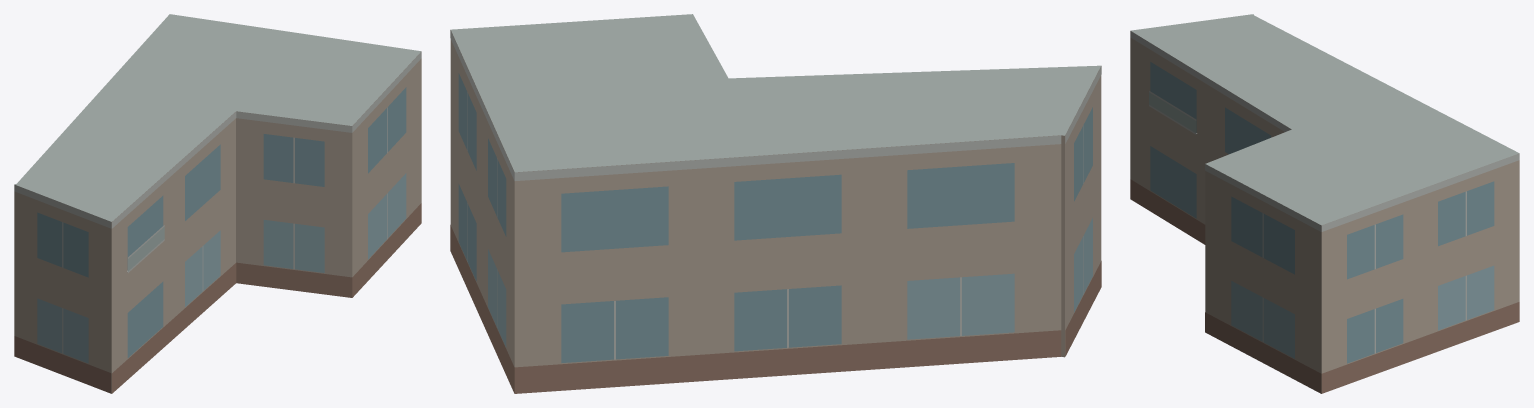
File: survey-upis-32767404.glb
3 renders of one model, left to right at view 1: azimuth 30°, elevation 25°; view 2: azimuth 150°, elevation 25°; view 3: azimuth 270°, elevation 25°, orthographic. The views are drawn at different scales.
Parts seen in each view (by area): view 1: survey-upis-32767404.tmp; view 2: survey-upis-32767404.tmp; view 3: survey-upis-32767404.tmp.
Boxes of the visible parts, bbox=[...] form: survey-upis-32767404.tmp: bbox=[14, 14, 421, 393]; survey-upis-32767404.tmp: bbox=[450, 14, 1101, 393]; survey-upis-32767404.tmp: bbox=[1130, 14, 1519, 393].
Size of the model in its own units: 16.43 by 6.1 by 12.79.
